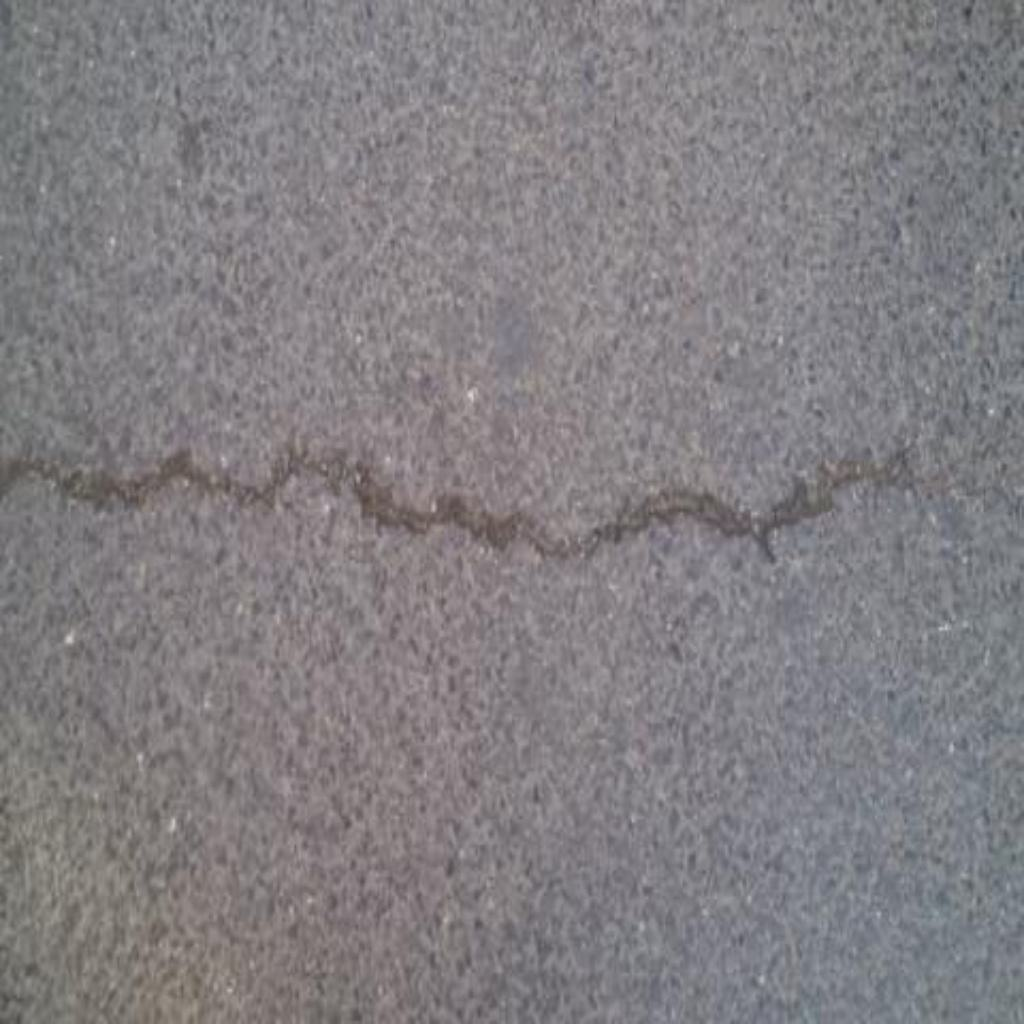Crack: (1, 430, 892, 566)
